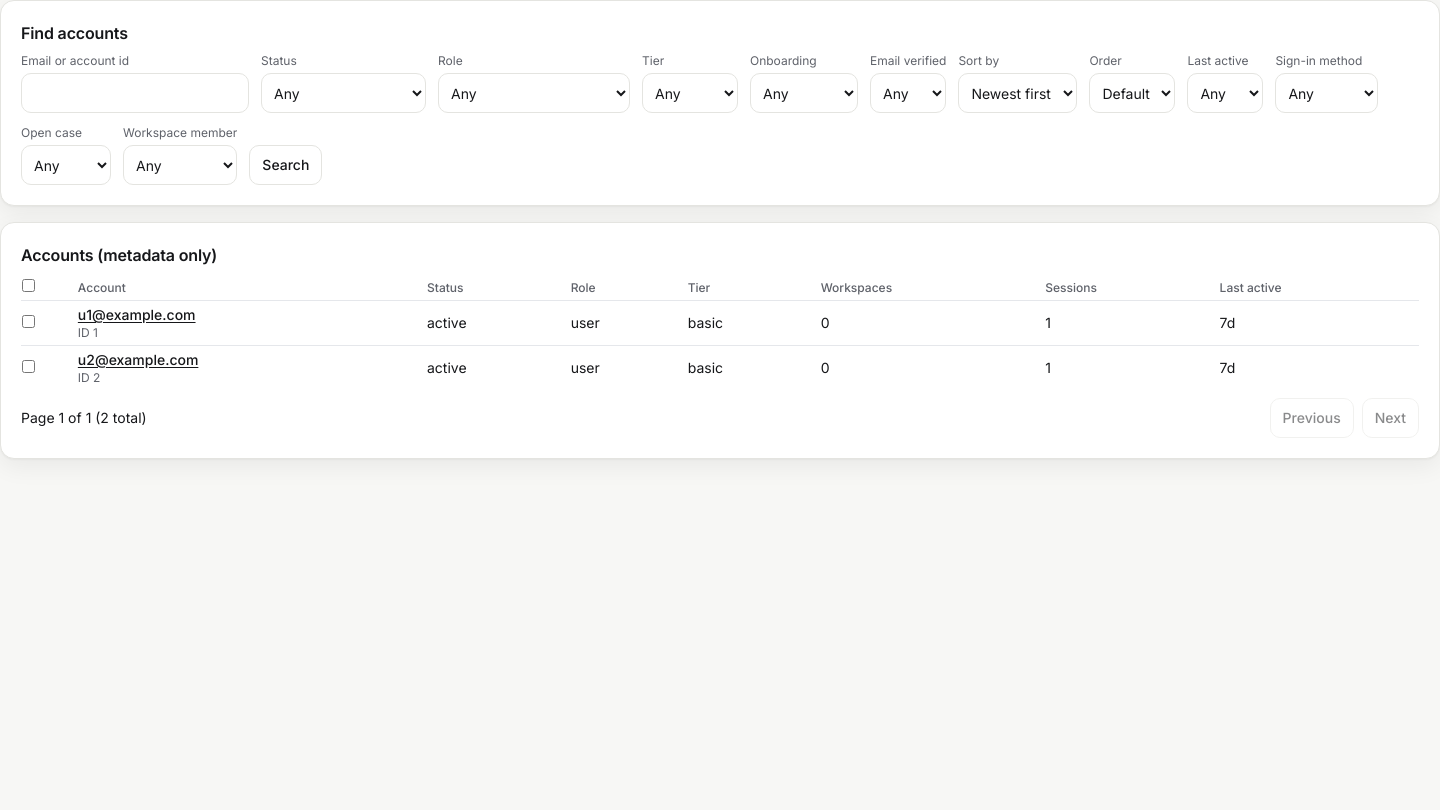
Scenario: selection and permissions › the panel appears only once something is selected and never offers deactivation, deletion, role or plan changes
The image size is (1440, 810).
Check: the link "u1@example.com" is shown, box [78, 306, 196, 323]
Check: the text "Bulk actions" is not shown
Click the checkbox named "Select account 1".
click(28, 322)  # box [22, 315, 35, 328]
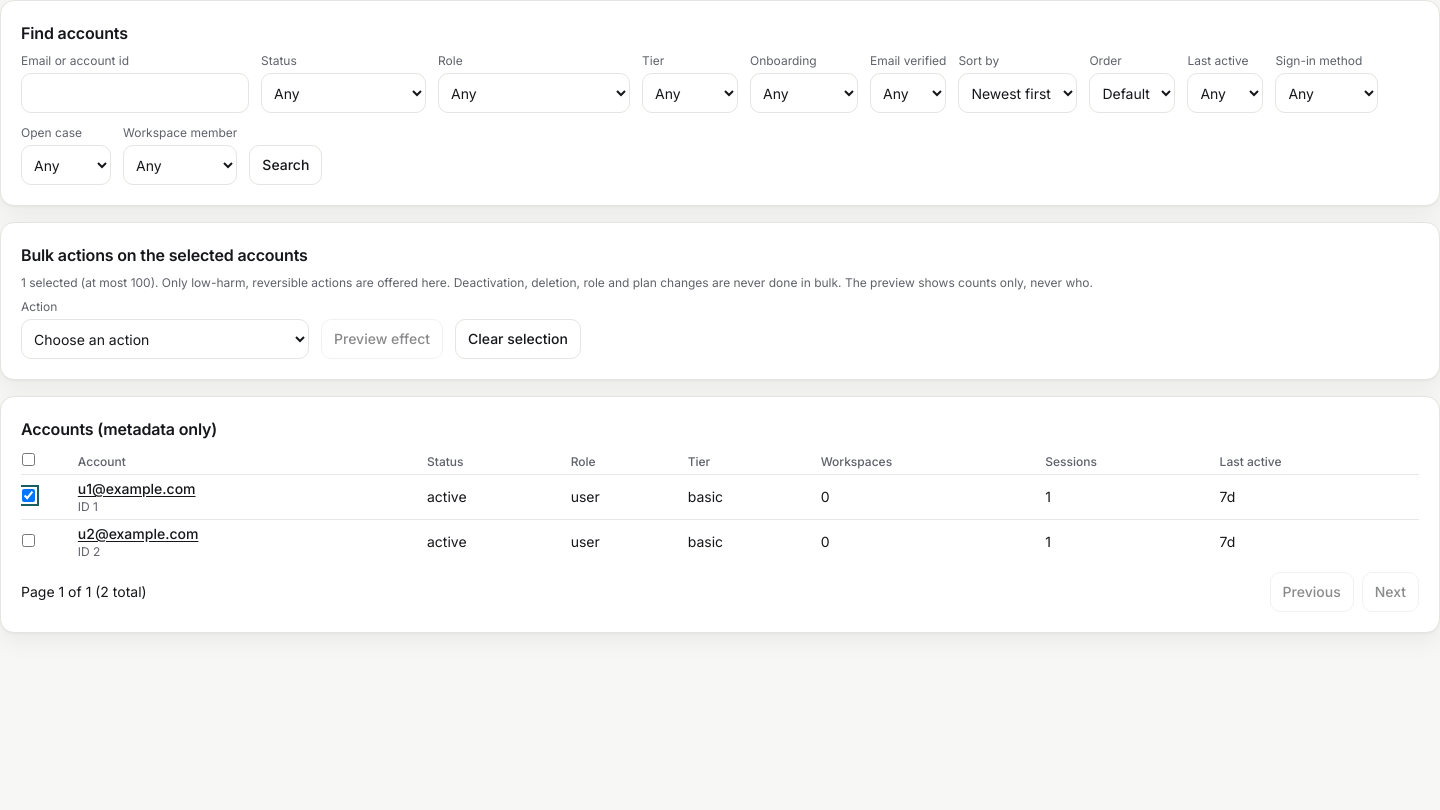
Check: the heading "Bulk actions on the selected accounts" is shown, box [21, 245, 308, 265]
